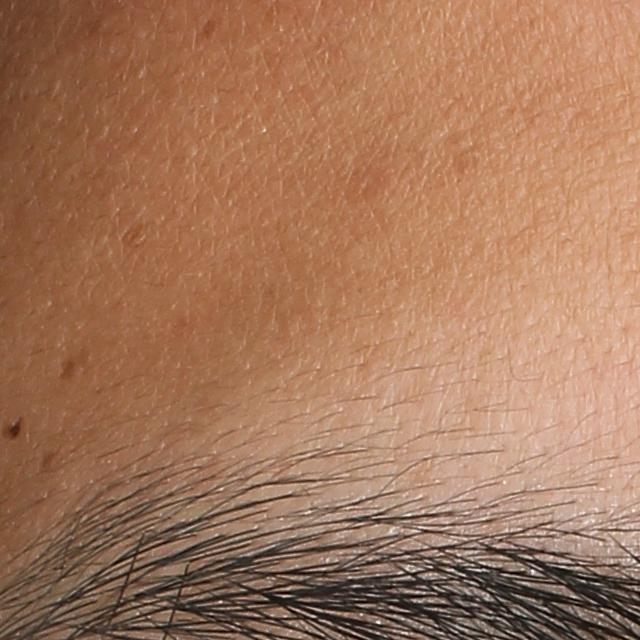nevus: (0, 413, 27, 443)
